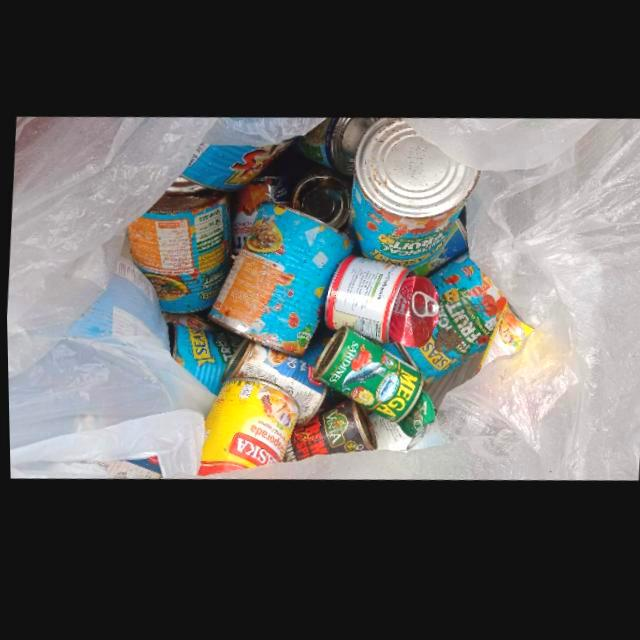aluminum: (206, 207, 353, 361), (349, 124, 479, 276), (310, 331, 433, 444), (401, 258, 503, 389), (125, 192, 232, 316), (320, 259, 439, 354), (194, 381, 297, 480), (219, 342, 325, 430), (163, 317, 242, 398), (171, 143, 289, 195), (283, 403, 374, 466), (287, 123, 372, 181), (228, 182, 293, 253), (288, 176, 352, 240), (404, 225, 467, 284), (479, 310, 531, 374)
